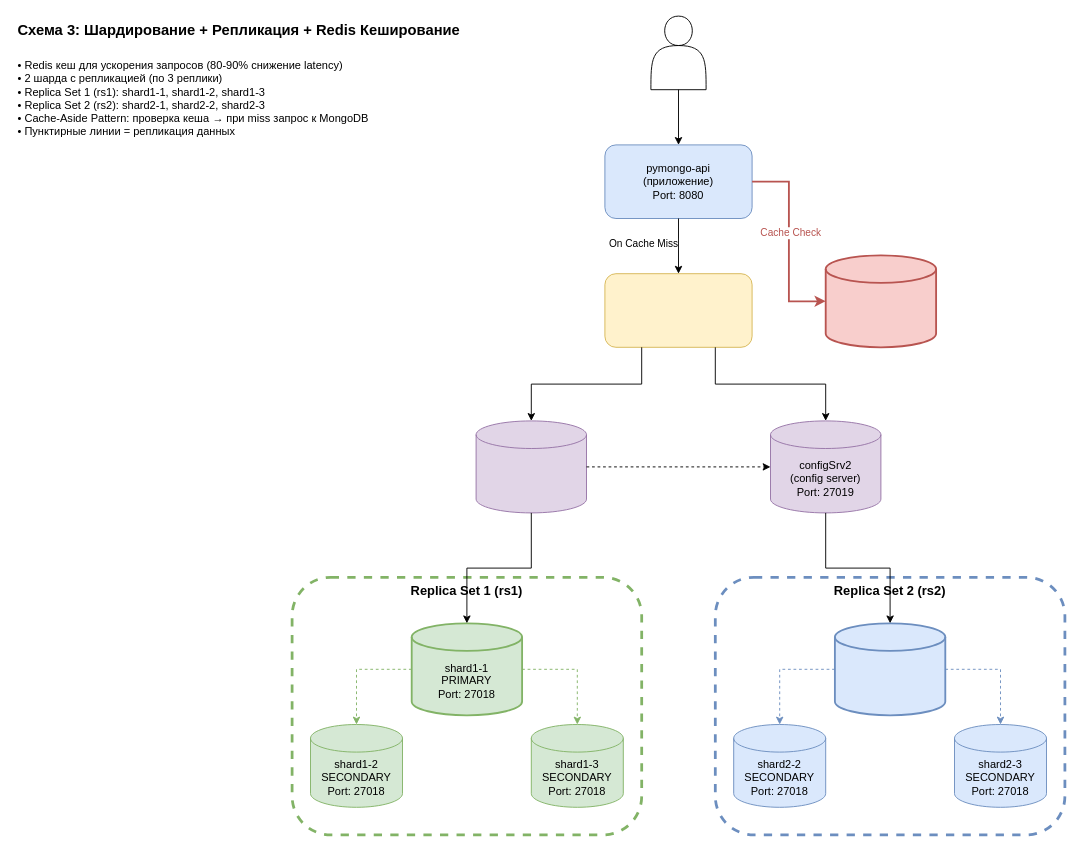
Some shapes in this 1082 by 852 pixel diagram are drawn without their labels. The shapes that lost their labels are listed below. From the top down, each one's centre as x and y in pixels, then its label:
At (678,52): "Клиенты".
At (678,310): "mongos (роутер) Port: 27017".
At (880,301): "Redis (кеш) Port: 6379".
At (530,466): "configSrv1 (config server) Port: 27019".
At (890,669): "shard2-1 PRIMARY Port: 27018".
